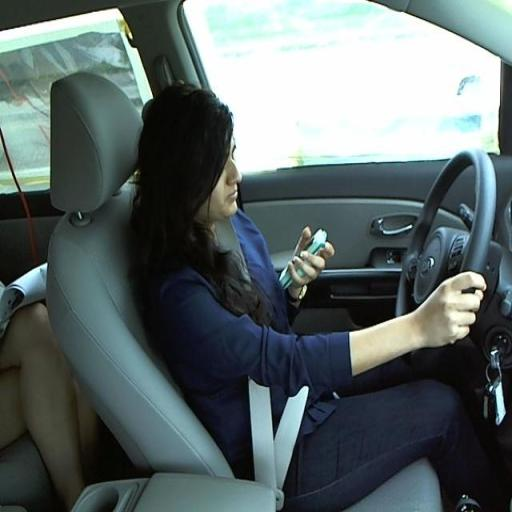texting_phone: (143, 98, 487, 456)
